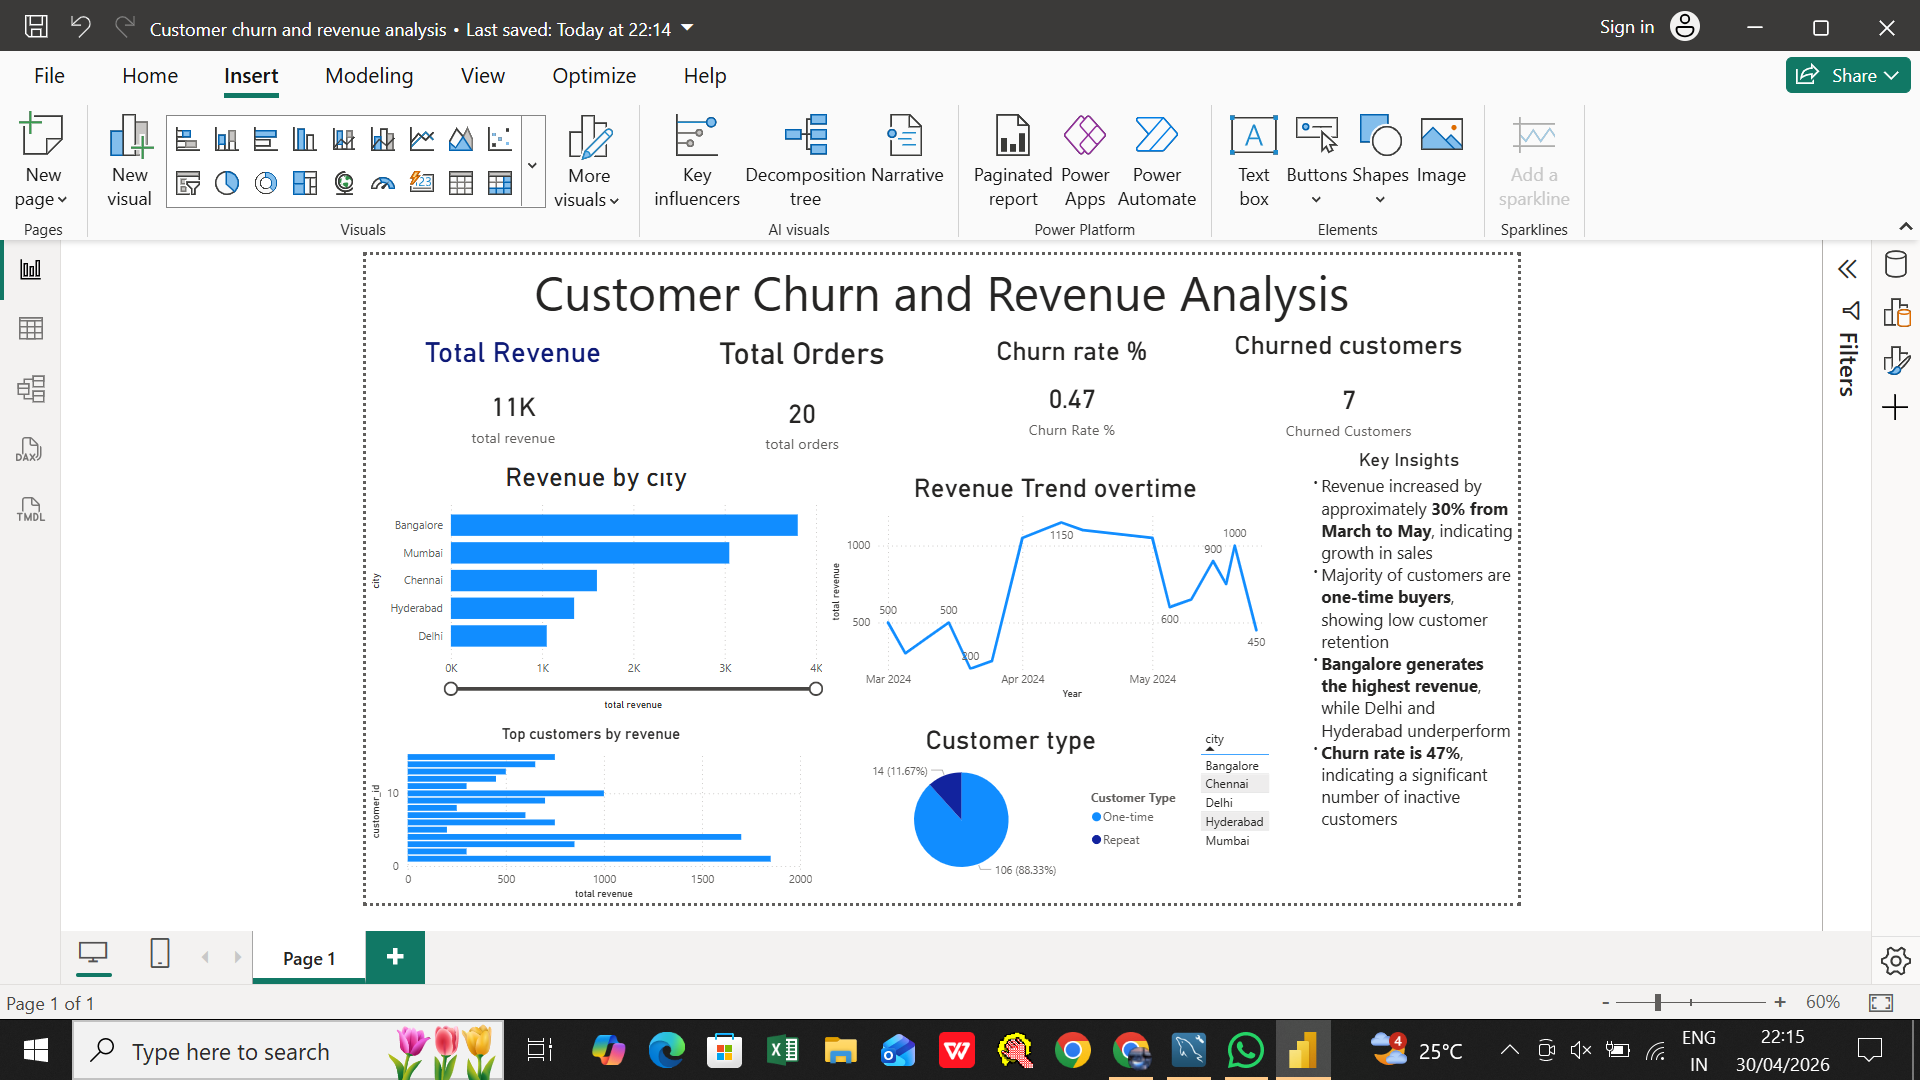

What the dashboard file says about the page in this screenshot:
{"tool":"powerbi","page":{"name":"Page 1","canvas":[1280,720],"ordinal":0},"visuals":[{"type":"lineChart","title":"Revenue Trend overtime","fields":{"Category":["orders.order_date.Variation.Date Hierarchy.Year","orders.order_date.Variation.Date Hierarchy.Quarter","orders.order_date.Variation.Date Hierarchy.Month","orders.order_date.Variation.Date Hierarchy.Day"],"Y":["customers.total revenue"]},"box":[511.7,241.7,508.3,256.7],"z":0},{"type":"clusteredBarChart","title":"Revenue by city","fields":{"Category":["customers.city"],"Y":["customers.total revenue"]},"box":[0,230,511.7,280],"z":1000},{"type":"pieChart","title":"Customer type","fields":{"Category":["CustomerSummary.Customer Type"],"Y":["Sum(CustomerSummary.customer_id)"]},"box":[511.7,521.7,410,178.3],"z":2000},{"type":"card","title":"Total Revenue","fields":{"Values":["customers.total revenue"]},"box":[0,90,326.7,140],"z":3000},{"type":"card","title":"Total Orders","fields":{"Values":["customers.total orders"]},"box":[311.7,90,345,151.7],"z":4000},{"type":"card","title":"Churned customers","fields":{"Values":["CustomerSummary.Churned Customers"]},"box":[940,83.3,303.3,140],"z":5000},{"type":"card","title":"Churn rate %","fields":{"Values":["CustomerSummary.Churn Rate %"]},"box":[641.7,90,285,125],"z":6000},{"type":"textbox","box":[0,0,1280,90],"z":7000},{"type":"clusteredBarChart","title":"Top customers by revenue","fields":{"Category":["customers.customer_id"],"Y":["customers.total revenue"]},"box":[0,521.7,500,198.3],"z":7001},{"type":"textbox","title":"Key Insights","box":[1038.3,215,241.7,428.3],"z":7002},{"type":"tableEx","title":"Filters by city","fields":{"Values":["customers.city"]},"box":[921.7,521.7,116.7,158.3],"z":7004}]}

Visuals, with their boxes on the page's 1280x720 design canvas (x1, y1, x2, y2). These are canvas units, not pixel positions in the 1920x1080 screenshot, which may show the page scaled, cropped or inside an application window:
"Revenue Trend overtime" lineChart: select_region(512, 242, 1020, 498)
"Revenue by city" clusteredBarChart: select_region(0, 230, 512, 510)
"Customer type" pieChart: select_region(512, 522, 922, 700)
"Total Revenue" card: select_region(0, 90, 327, 230)
"Total Orders" card: select_region(312, 90, 657, 242)
"Churned customers" card: select_region(940, 83, 1243, 223)
"Churn rate %" card: select_region(642, 90, 927, 215)
textbox: select_region(0, 0, 1280, 90)
"Top customers by revenue" clusteredBarChart: select_region(0, 522, 500, 720)
"Key Insights" textbox: select_region(1038, 215, 1280, 643)
"Filters by city" tableEx: select_region(922, 522, 1038, 680)
